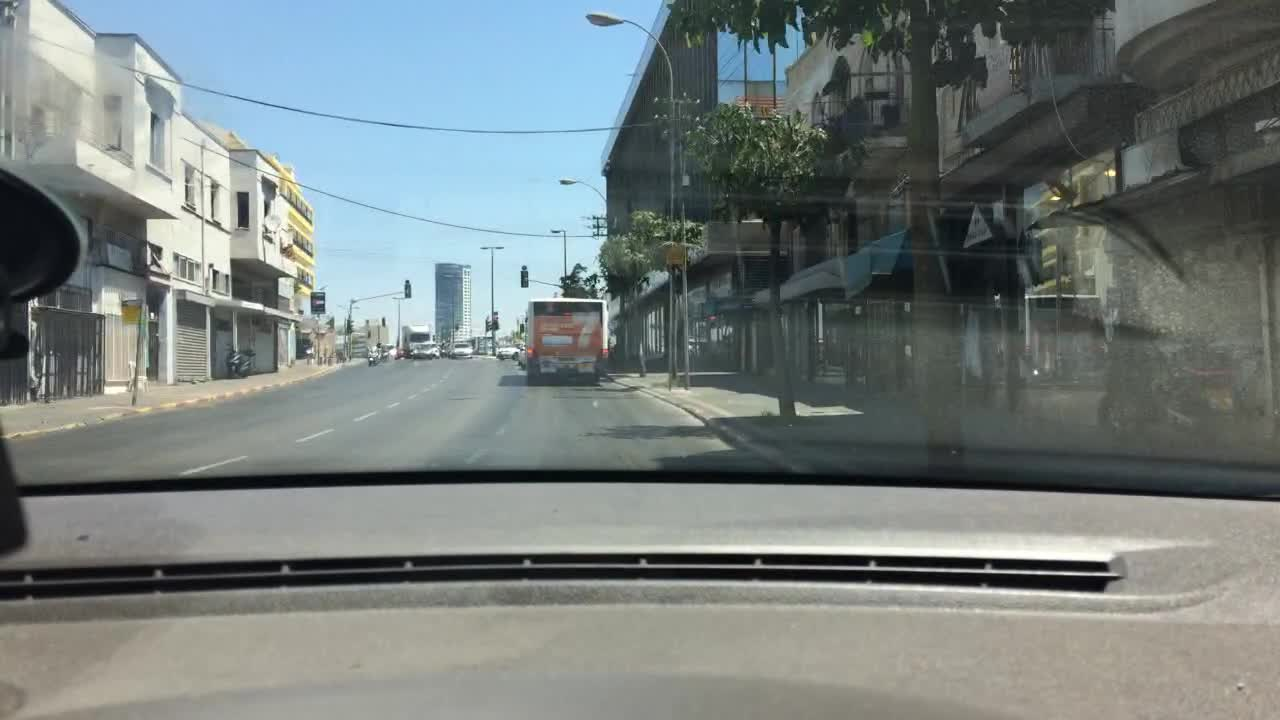bus: (521, 296, 612, 383)
car: (408, 341, 435, 361), (296, 335, 316, 361), (450, 340, 475, 360), (496, 341, 521, 360), (440, 340, 452, 358), (386, 343, 396, 359), (519, 346, 526, 366)
motor: (1090, 343, 1247, 442), (227, 346, 255, 376), (365, 353, 381, 368)
person: (1098, 304, 1176, 455)
rider: (369, 341, 381, 360)
traffic light: (521, 267, 530, 286), (403, 280, 411, 299)
traffic sign: (665, 243, 685, 267), (308, 290, 326, 316)
truck: (401, 321, 431, 356)
